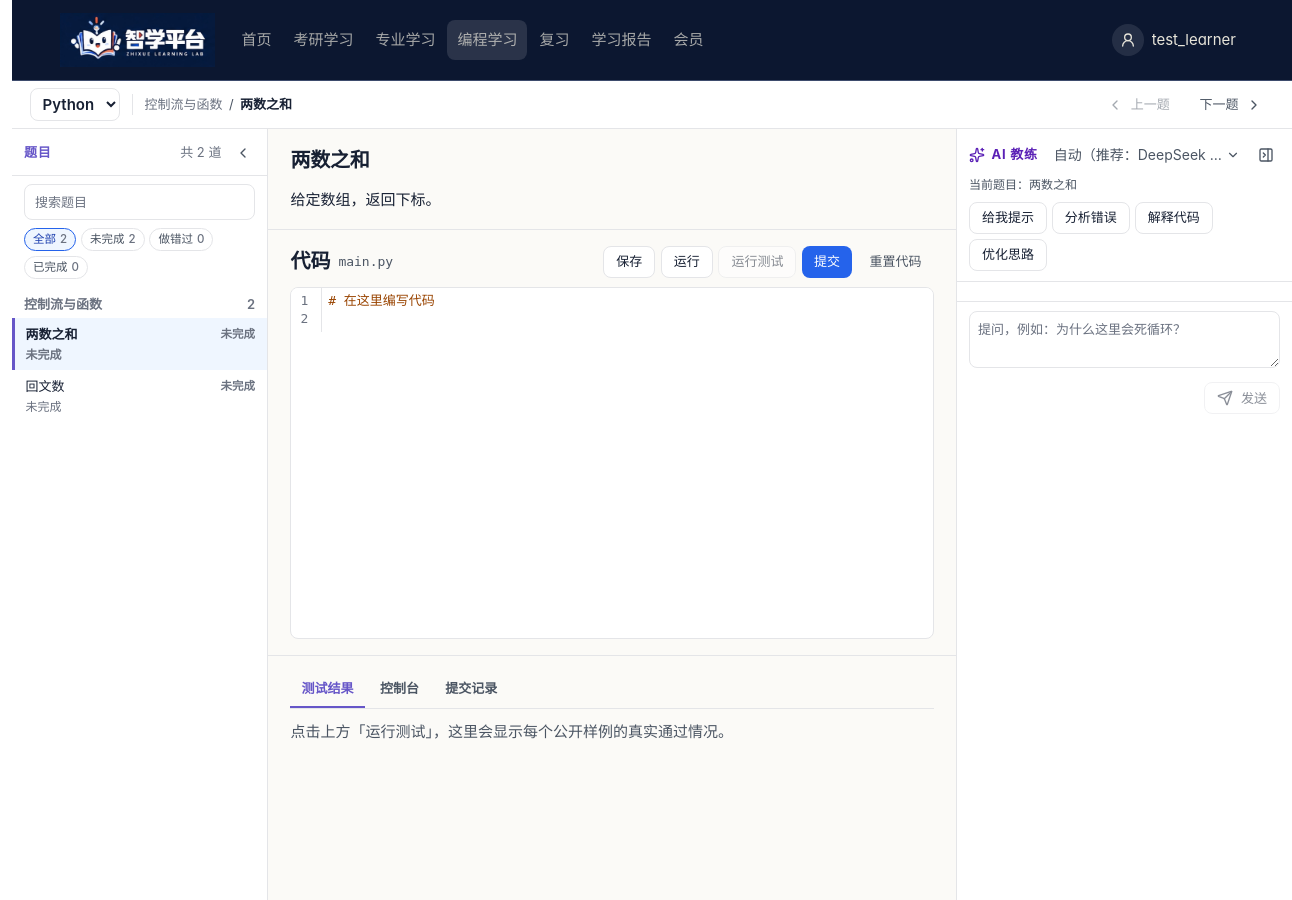
Test case: the题目栏 collapse › opens expanded, collapses to a rail, keeps the centre, and reopens
Expected: the text "共 2 道" is shown, x1=180 y1=143 x2=221 y2=162
Expected: the text "题目" is shown, x1=24 y1=143 x2=52 y2=162
Click the button named "收起题目栏": (243, 153) x1=229 y1=139 x2=257 y2=167
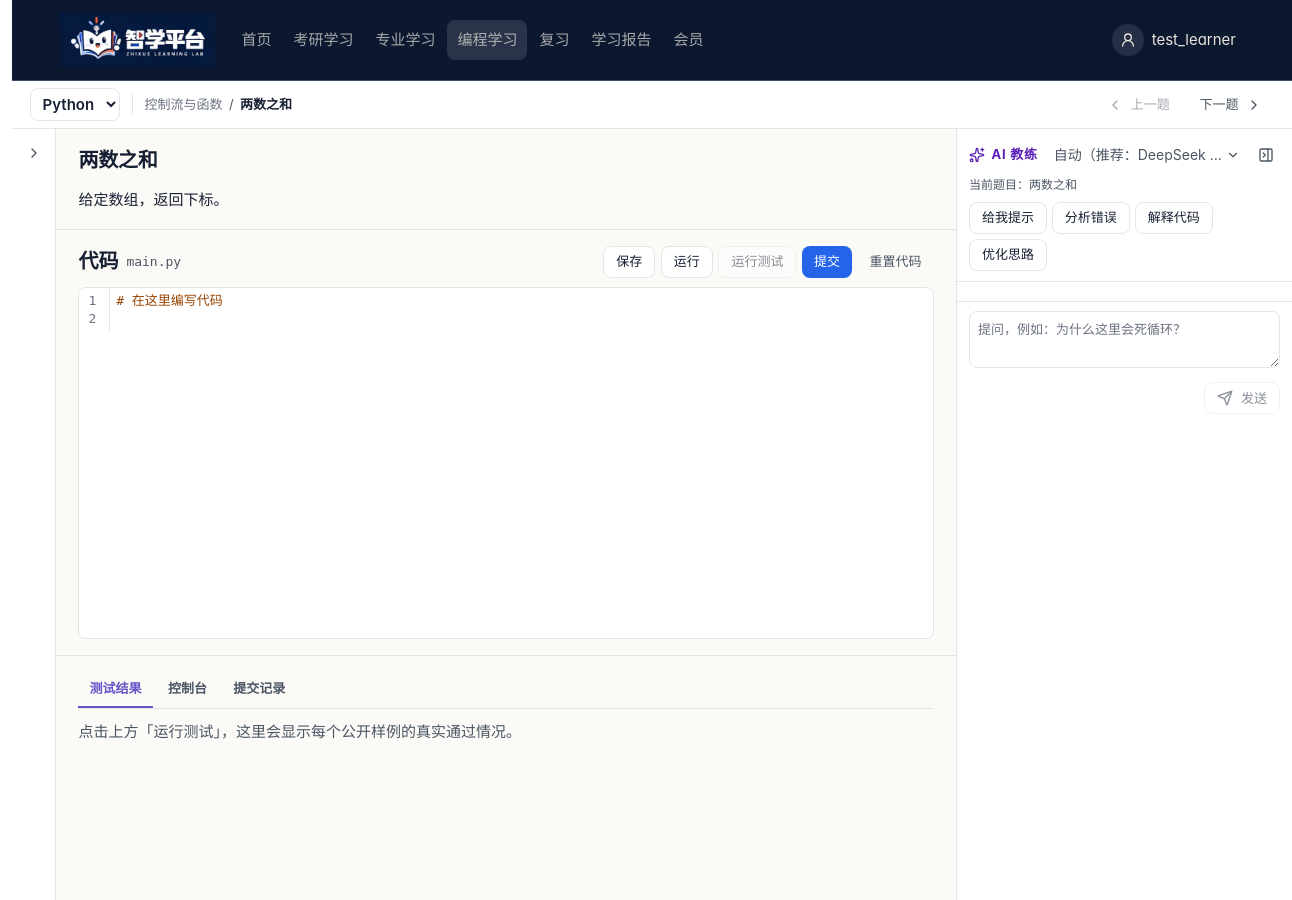
Now the text "共 2 道" is gone
Now the search field "搜索题目" is gone
Now the element with class "wb__body--rail-collapsed" is shown
Click the button named "展开题目栏": (34, 153) x1=20 y1=139 x2=48 y2=167
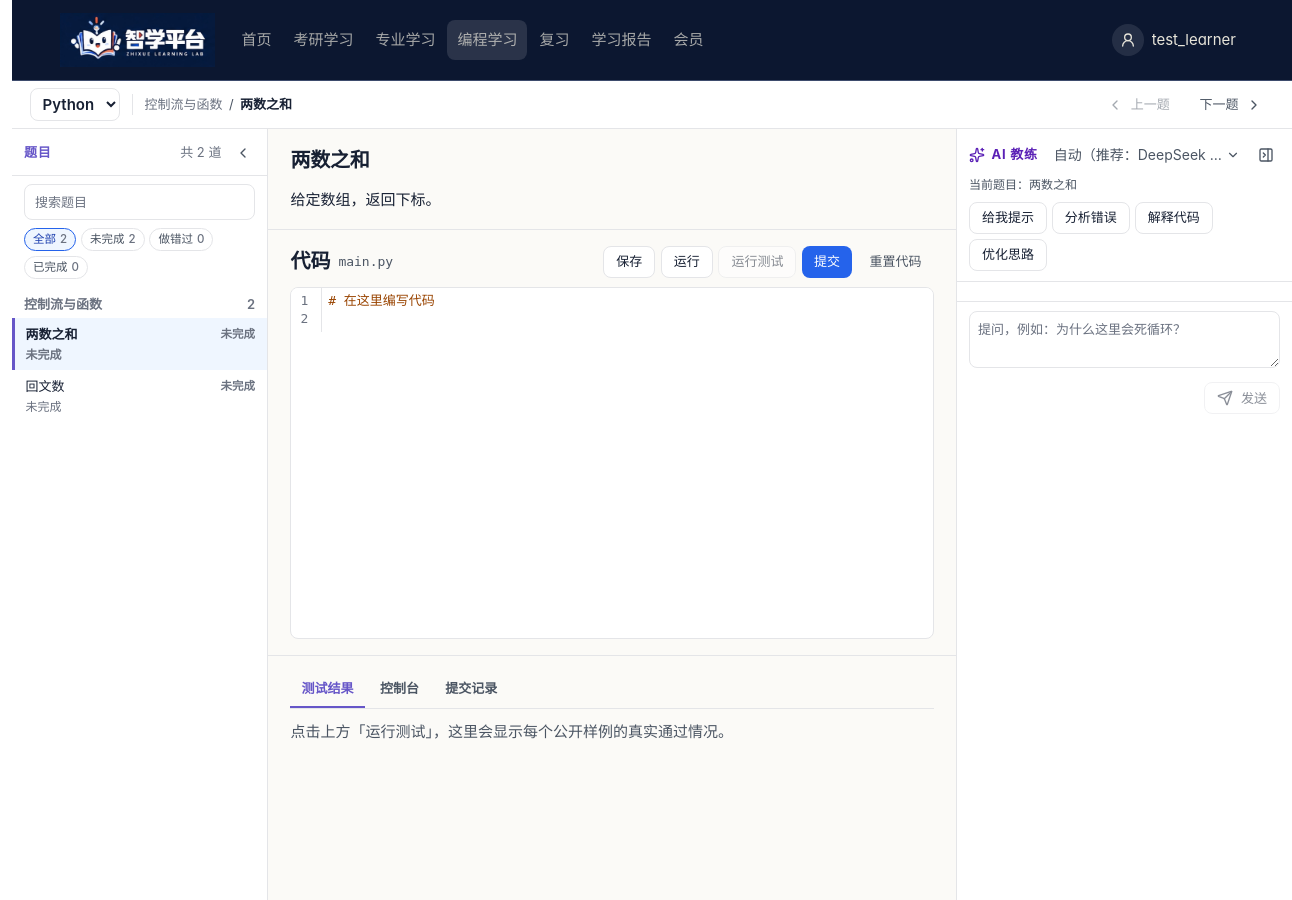
Now the text "共 2 道" is shown, box x1=180 y1=143 x2=221 y2=162
